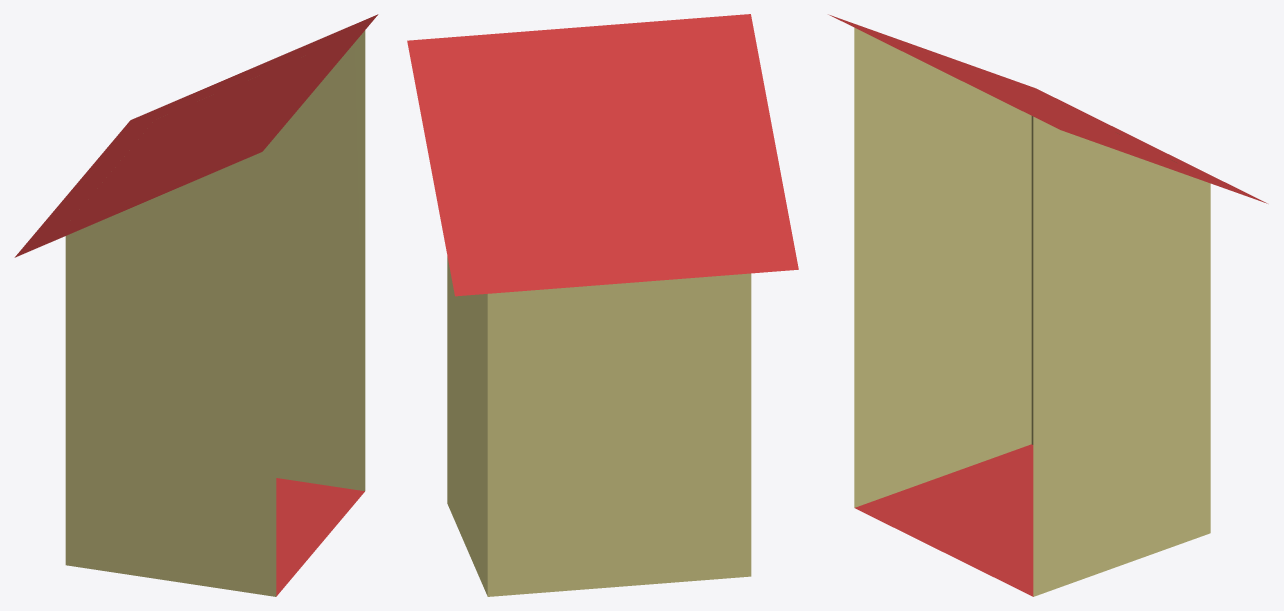
3 renders of one model, left to right at view 1: azimuth 30°, elevation 25°; view 2: azimuth 150°, elevation 25°; view 3: azimuth 270°, elevation 25°, orthographic. The views are drawn at different scales.
Bounding box in the file's own units: 8.07 × 7.89 × 9.45.
